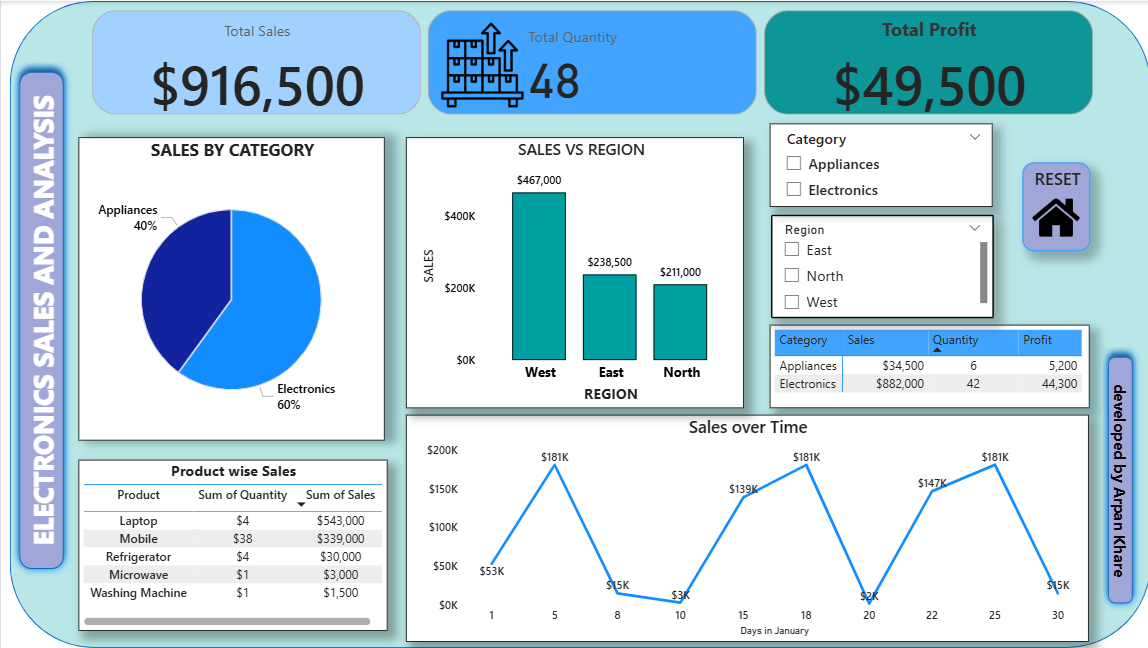

Layout of this report page (visuals, bound fields, positions):
{"tool":"powerbi","page":{"name":"sales DAshboard","canvas":[1280,720],"ordinal":5},"visuals":[{"type":"shape","box":[10,0,1270,720],"z":0},{"type":"cardVisual","fields":{"Data":["Sum(Sheet1.Sales)","Sum(Sheet1.Quantity)","Sum(Sheet1.Profit)"]},"box":[86.8,0,1144.6,137],"z":1000},{"type":"pivotTable","fields":{"Rows":["Sheet1.Category"],"Values":["Sum(Sheet1.Sales)","Sum(Sheet1.Quantity)","Sum(Sheet1.Profit)"]},"box":[855.7,360,355.7,92.9],"z":2000},{"type":"lineChart","title":"Sales over Time","fields":{"Category":["Sheet1.Date.Variation.Date Hierarchy.Day"],"Y":["Sum(Sheet1.Sales)"]},"box":[451.4,460,760,252.9],"z":3000},{"type":"pivotTable","title":"Product wise Sales","fields":{"Rows":["Sheet1.Product"],"Values":["Sum(Sheet1.Quantity)","Sum(Sheet1.Sales)"]},"box":[86.8,511.1,343.6,190.8],"z":4000},{"type":"pieChart","title":"SALES BY CATEGORY","fields":{"Y":["CountNonNull(Sheet1.Category)","select"],"Category":["Sheet1.Category (groups)"],"Series":["Sheet1.Category"]},"box":[86.8,151.6,341.2,337.5],"z":5000},{"type":"clusteredColumnChart","title":"SALES VS REGION","fields":{"Y":["Sum(Sheet1.Sales)"],"Category":["Sheet1.Region"]},"box":[451.4,151.4,375.7,301.4],"z":6000},{"type":"slicer","fields":{"Values":["Sheet1.Region"]},"box":[857.2,237.2,248.2,114.9],"z":7000},{"type":"slicer","fields":{"Values":["Sheet1.Category"]},"box":[856,137,248.2,92.9],"z":8000},{"type":"image","title":"RESET","box":[1136,179.8,75.8,99],"z":9000},{"type":"shape","box":[9.8,68.5,70.9,574.7],"z":10000},{"type":"shape","box":[1221.6,385.2,48.9,295.9],"z":10001}]}

Visuals, with their boxes in screenshot pixels (x1, y1, x2, y2), scaled from the page's 1280x720 canvas onto the 1148x648 screenshot:
shape: bbox=[9, 0, 1147, 647]
cardVisual - Sum(Sheet1.Sales) x Sum(Sheet1.Quantity): bbox=[78, 0, 1104, 123]
pivotTable - Sheet1.Category x Sum(Sheet1.Sales): bbox=[767, 324, 1086, 408]
"Sales over Time" lineChart: bbox=[405, 414, 1086, 642]
"Product wise Sales" pivotTable: bbox=[78, 460, 386, 632]
"SALES BY CATEGORY" pieChart: bbox=[78, 136, 384, 440]
"SALES VS REGION" clusteredColumnChart: bbox=[405, 136, 742, 408]
slicer - Sheet1.Region: bbox=[769, 213, 991, 317]
slicer - Sheet1.Category: bbox=[768, 123, 990, 207]
"RESET" image: bbox=[1019, 162, 1087, 251]
shape: bbox=[9, 62, 72, 579]
shape: bbox=[1096, 347, 1139, 613]
